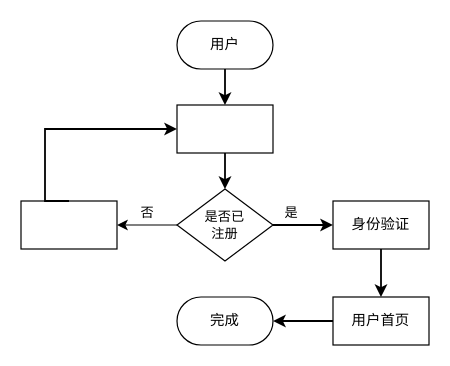
Image size: 450x366. Some labels were removed from this diagram. The shapes that lost their labels are listed below. From the top down, each one's centre as x and y in pixels, then its label:
point (224, 128): 登录
point (68, 224): 注册
